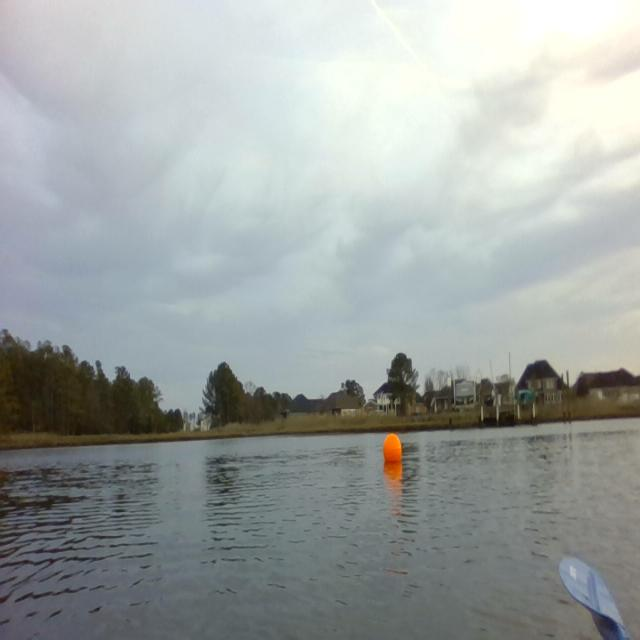Buoy: (381, 430, 404, 467)
